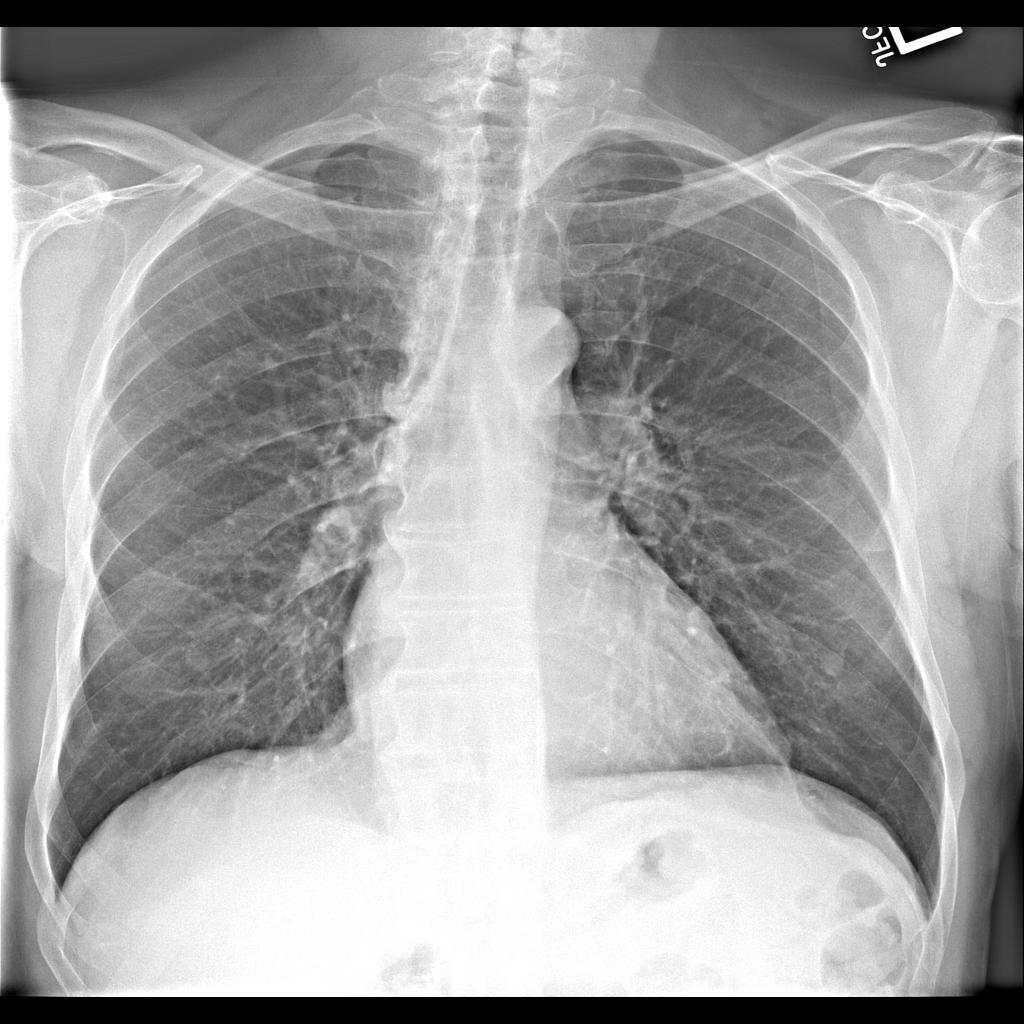Nodule: (816, 646, 849, 683)
